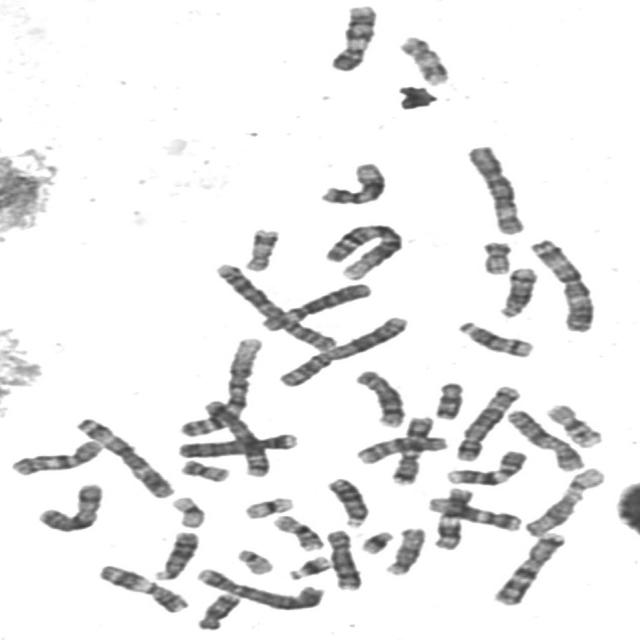A1: (174, 332, 266, 439), (320, 219, 407, 281)
A2: (209, 260, 341, 354), (273, 311, 412, 388)
A3: (70, 413, 179, 499), (526, 235, 598, 333)
B4: (192, 564, 329, 612), (172, 429, 301, 459)
B5: (198, 396, 272, 478), (452, 381, 524, 462)
C10: (6, 436, 106, 477), (351, 431, 452, 466)
C11: (92, 560, 193, 614), (430, 484, 478, 551)
C12: (423, 492, 525, 532), (315, 158, 390, 206)
C6: (462, 141, 528, 236), (256, 279, 374, 332)
C7: (487, 528, 570, 607), (386, 411, 438, 486)
C8: (350, 366, 409, 429), (321, 526, 365, 592)
C9: (326, 0, 381, 72), (441, 446, 531, 486)
D13: (148, 527, 202, 582), (322, 473, 372, 529)
D14: (452, 317, 538, 359), (494, 263, 540, 319)
D15: (522, 490, 586, 538), (382, 523, 428, 577)
E16: (542, 400, 607, 449), (269, 510, 328, 552)
E17: (394, 31, 454, 87), (240, 224, 283, 273)
E18: (192, 588, 244, 632), (430, 378, 468, 421)
F19: (240, 493, 297, 520), (166, 493, 208, 529)
F20: (176, 455, 233, 484), (476, 238, 516, 276)
G21: (283, 552, 334, 581), (356, 527, 397, 555)
G22: (561, 464, 608, 496), (232, 545, 278, 576)
X: (502, 405, 588, 472), (31, 478, 106, 534)
